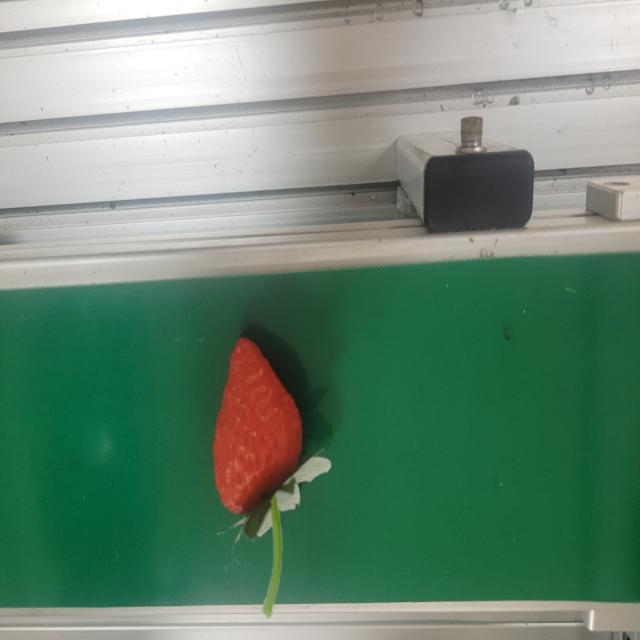Small Ripe Strawberry: (211, 332, 331, 542)
